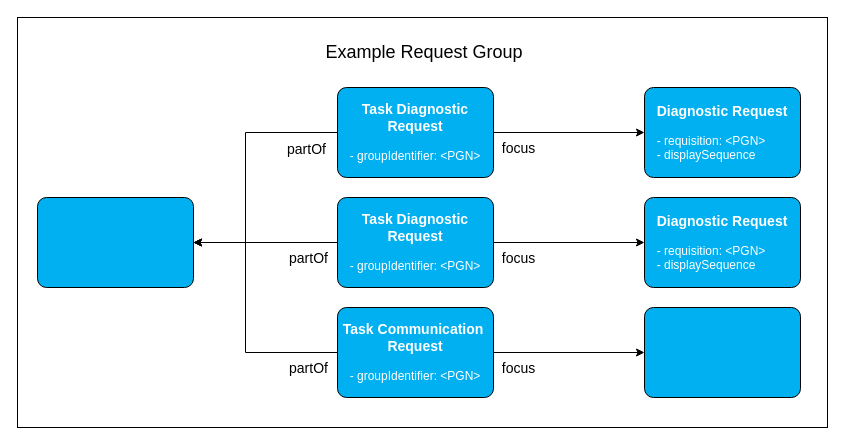
This 845x445 diagram has some shape labels left out. The box of each missing label's shape, as (x1, y1, x2, y2) in pixels:
Communication Request - groupIdentifier: <PGN>: (644, 306, 800, 398)
Task Group - groupIdentifier: <PGN>: (36, 196, 194, 288)
